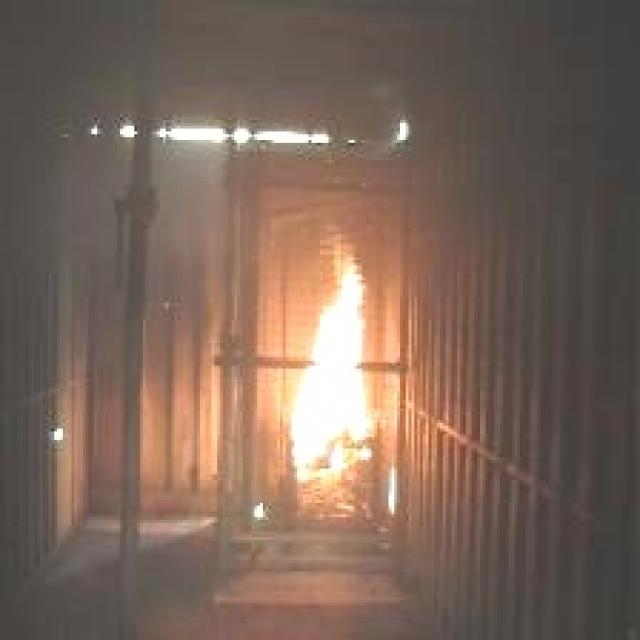fire: (286, 242, 408, 507)
